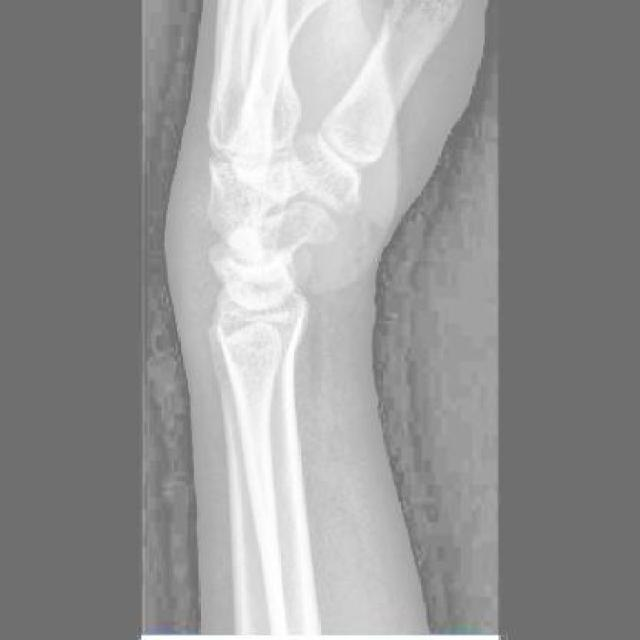Fracture: (209, 239, 257, 285)
